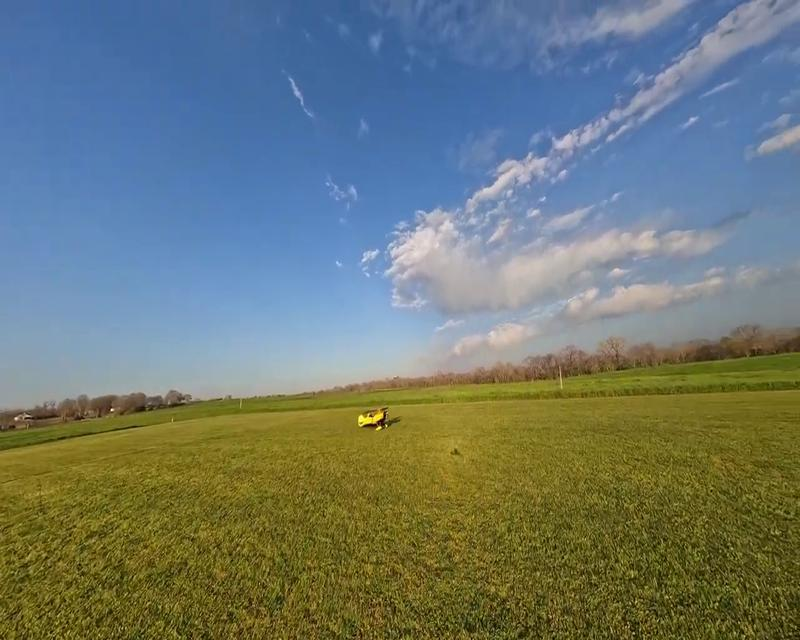UAV: (357, 408, 392, 431)
